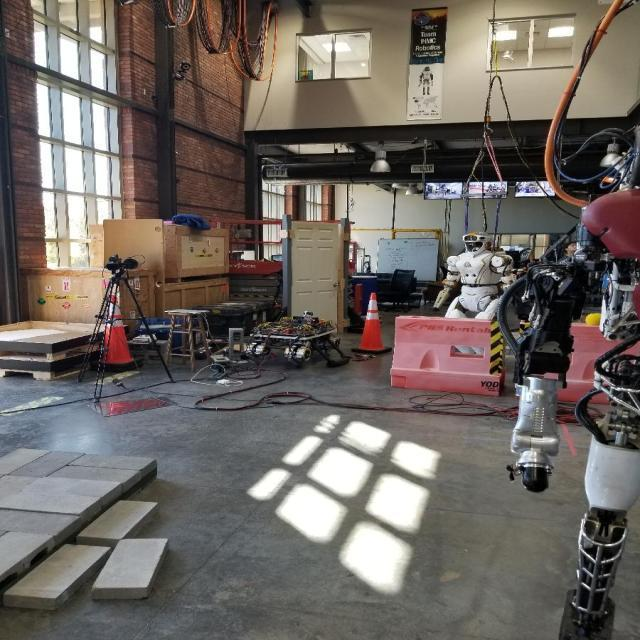door: (287, 218, 340, 340), (328, 280, 338, 290)
